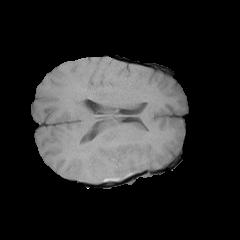glioma: (97, 146, 141, 181)
